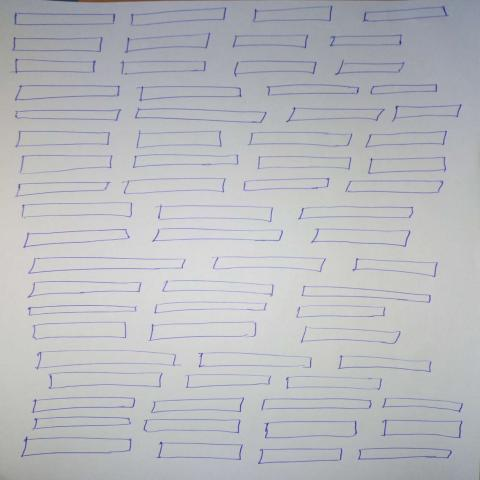Textbox: (36, 350, 178, 370), (29, 258, 187, 274), (302, 286, 432, 304), (22, 437, 133, 458), (149, 321, 258, 342), (24, 229, 132, 249), (48, 372, 164, 390), (29, 281, 143, 299), (158, 206, 275, 223), (136, 109, 267, 124), (199, 353, 313, 370), (126, 33, 212, 55), (312, 229, 411, 248), (130, 8, 228, 27), (20, 155, 113, 175), (152, 228, 284, 242), (213, 257, 328, 273), (32, 322, 128, 341), (14, 85, 121, 102), (301, 327, 402, 345), (163, 281, 275, 297), (139, 86, 243, 103), (124, 178, 228, 195), (32, 397, 136, 414), (266, 421, 359, 440), (344, 179, 445, 196), (353, 259, 438, 279), (339, 355, 433, 373), (23, 203, 133, 218), (159, 443, 244, 462), (133, 154, 240, 169), (151, 398, 245, 415), (136, 131, 223, 149), (12, 36, 104, 53), (384, 420, 464, 439), (298, 207, 414, 220), (16, 131, 110, 147), (154, 302, 269, 315), (366, 131, 448, 149), (249, 133, 354, 147), (144, 419, 242, 434), (121, 60, 207, 77), (363, 6, 449, 23), (261, 399, 373, 412), (258, 448, 343, 465), (16, 182, 112, 197), (253, 6, 335, 23), (286, 377, 383, 391), (368, 158, 447, 175), (14, 13, 117, 26), (258, 157, 352, 171), (236, 61, 318, 77), (33, 417, 133, 430), (287, 108, 386, 121), (297, 305, 386, 319), (15, 59, 98, 74), (243, 178, 331, 192), (383, 398, 464, 413), (28, 306, 138, 317), (268, 84, 360, 97), (187, 376, 272, 390), (16, 110, 122, 121), (358, 449, 453, 461), (233, 35, 311, 49), (336, 62, 406, 76), (395, 105, 463, 119), (331, 35, 404, 48), (371, 84, 438, 95)
